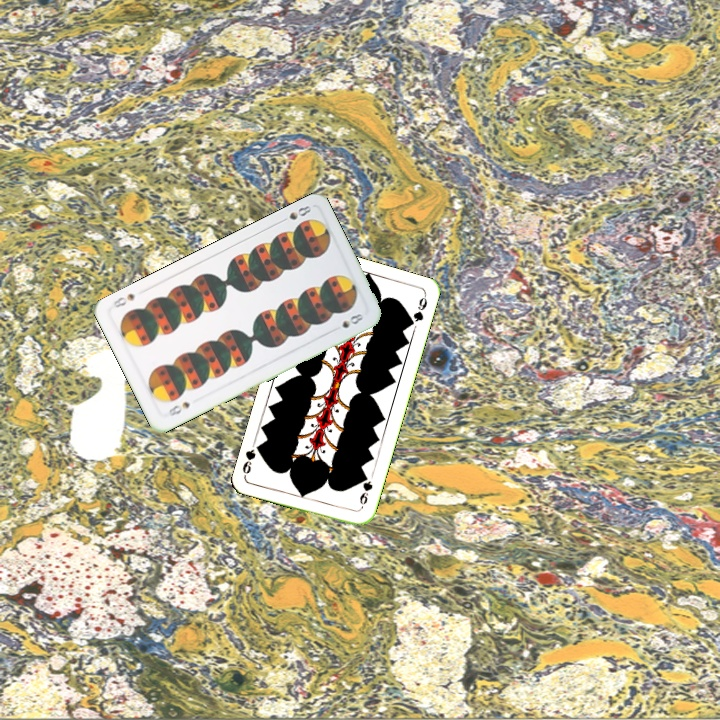G9: (356, 471, 375, 512)
S8: (275, 201, 314, 226), (165, 398, 192, 419)
